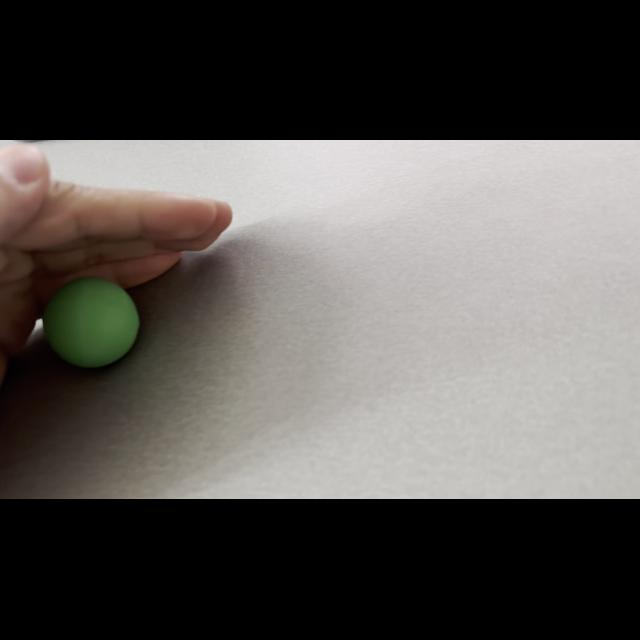objects: (39, 272, 147, 372)
